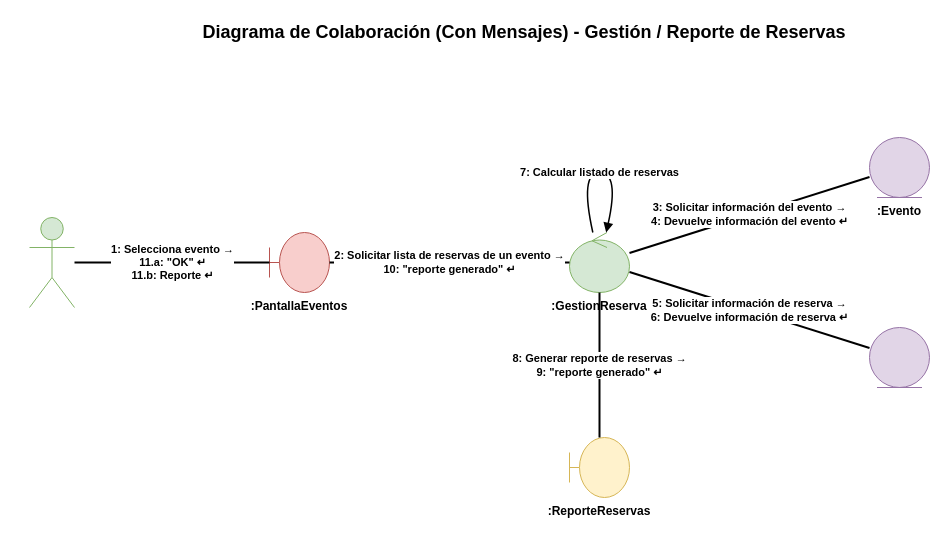
The diagram is 947 pixels wide and 535 high, and some of its shapes have lost their labels. The shapes that lost their labels are listed below. From the top down, each one's centre as x and y in pixels, then its label:
[51,262]: :Organizador
[899,357]: :Reserva
